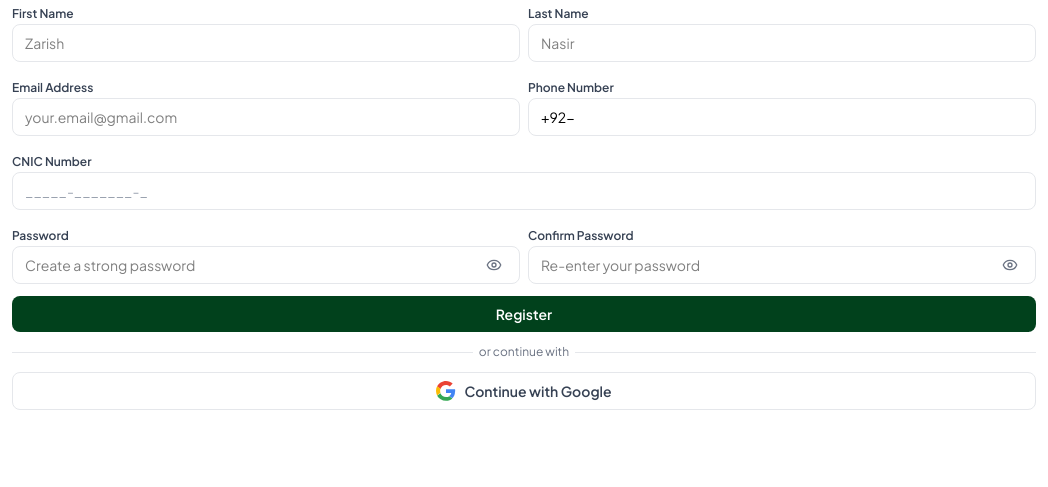
Scenario: ClientRegisterForm › shows a required-field error for every empty field once passwords are filled
Type "Passw0rd!" into the password field labelled "Password" at (266,265), box x1=12 y1=246 x2=520 y2=284
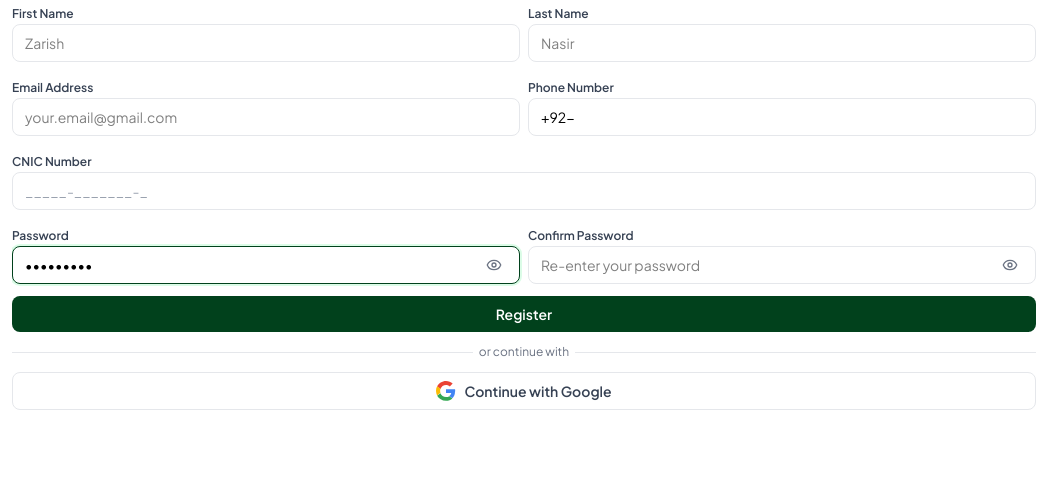
Type "Passw0rd!" into the password field labelled "Confirm Password" at (782,265), box x1=528 y1=246 x2=1036 y2=284
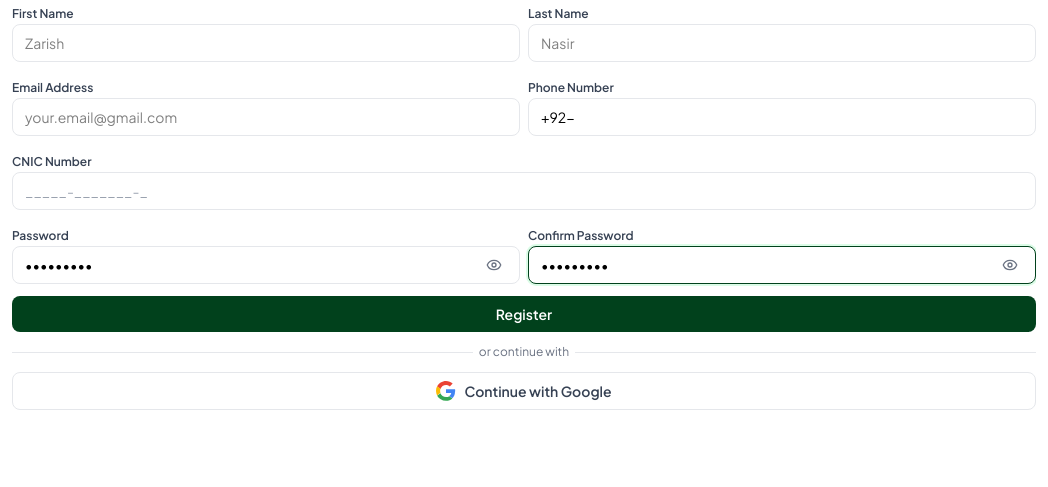
Click the button "Register" at (524,314), box x1=12 y1=296 x2=1036 y2=332
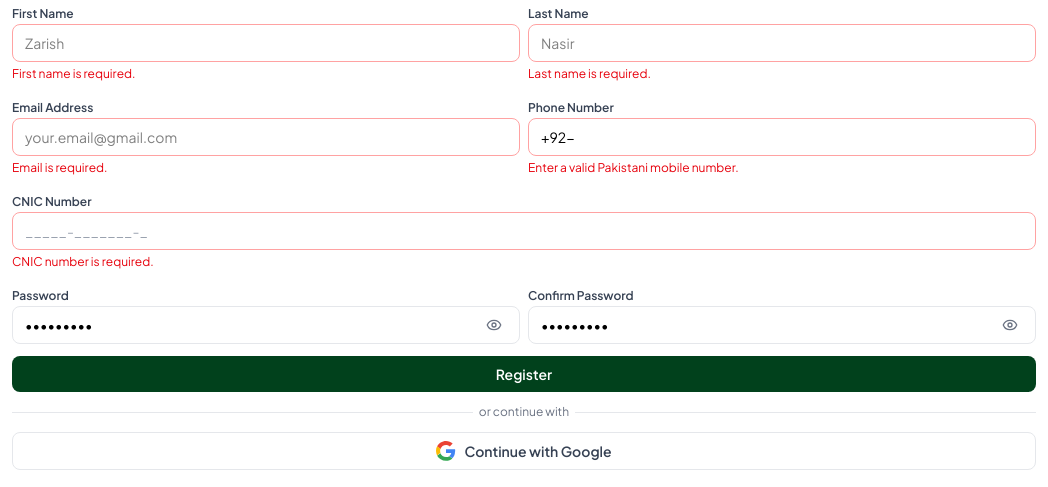
Expected: the text "First name is required." is shown, x1=12 y1=66 x2=136 y2=81
Expected: the text "Last name is required." is shown, x1=528 y1=66 x2=651 y2=81
Expected: the text "Email is required." is shown, x1=12 y1=160 x2=108 y2=175
